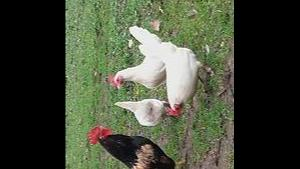hen: (85, 124, 186, 169)
